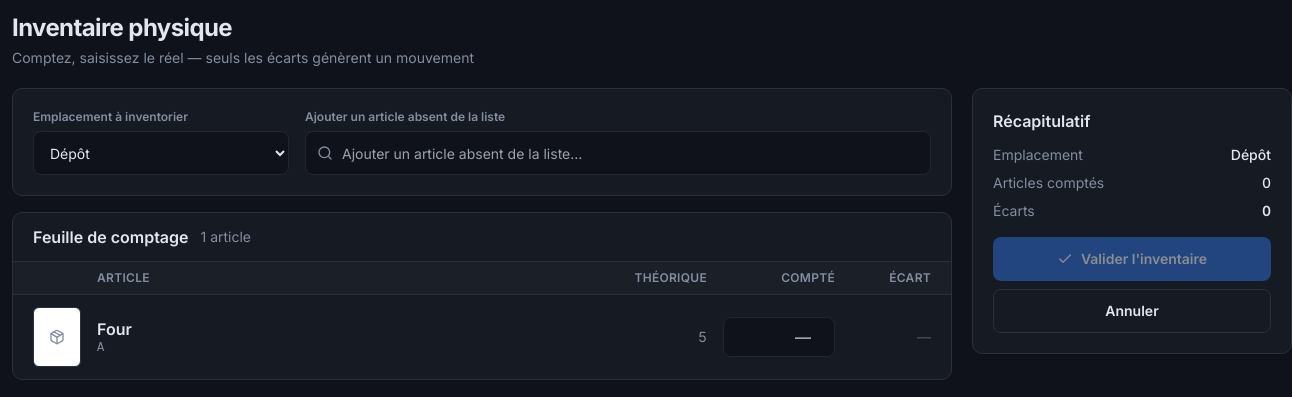
Test: physical count › asks before switching location once counts are typed, and keeps them if refused
Type "4" into the number field with placeholder "—" at (779,337), box top-left (723, 317), bottom-right (835, 357)
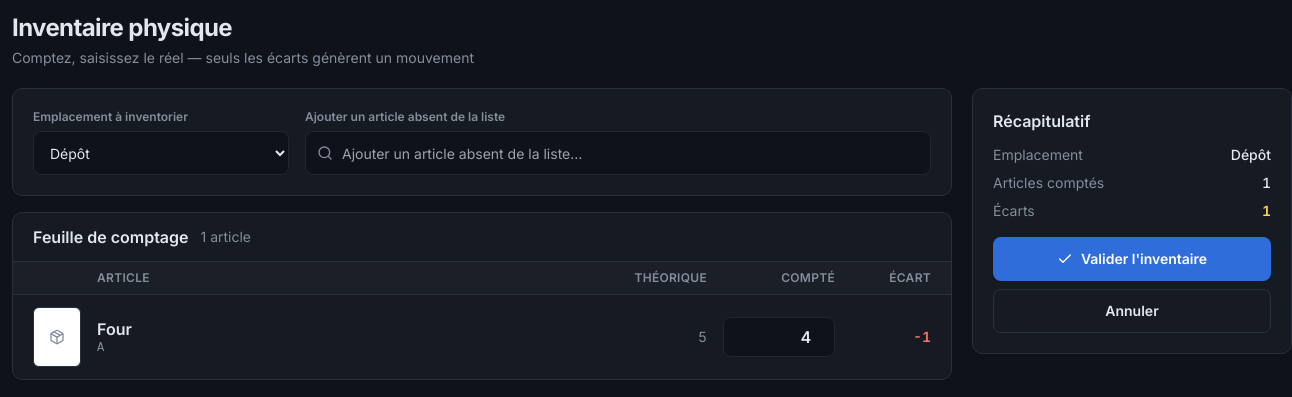
Select "Showroom" in the dropdown labelled "Emplacement à inventorier" at (161,153), box top-left (33, 131), bottom-right (289, 175)
Select "Showroom" in the dropdown labelled "Emplacement à inventorier" at (161,153), box top-left (33, 131), bottom-right (289, 175)
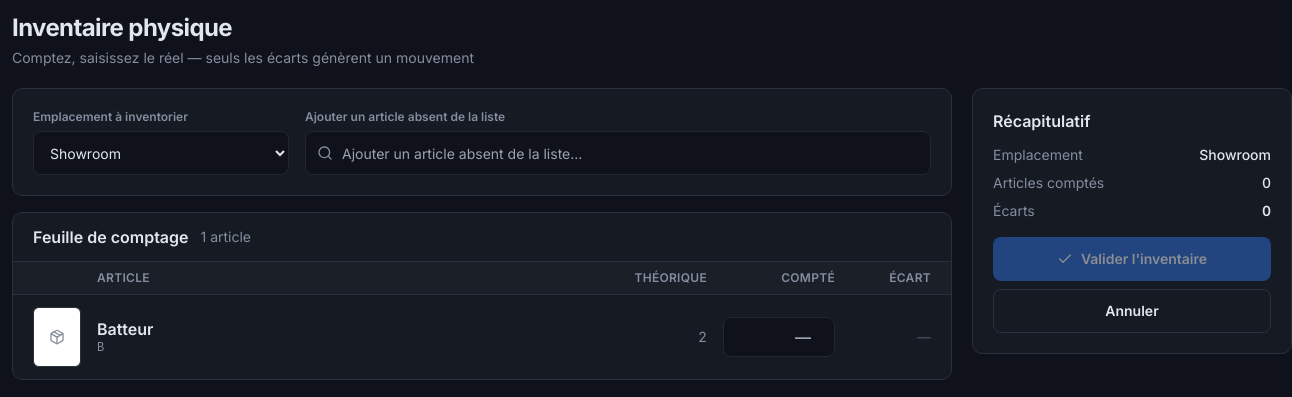
Now the text "Batteur" is shown, box top-left (97, 319), bottom-right (153, 339)
